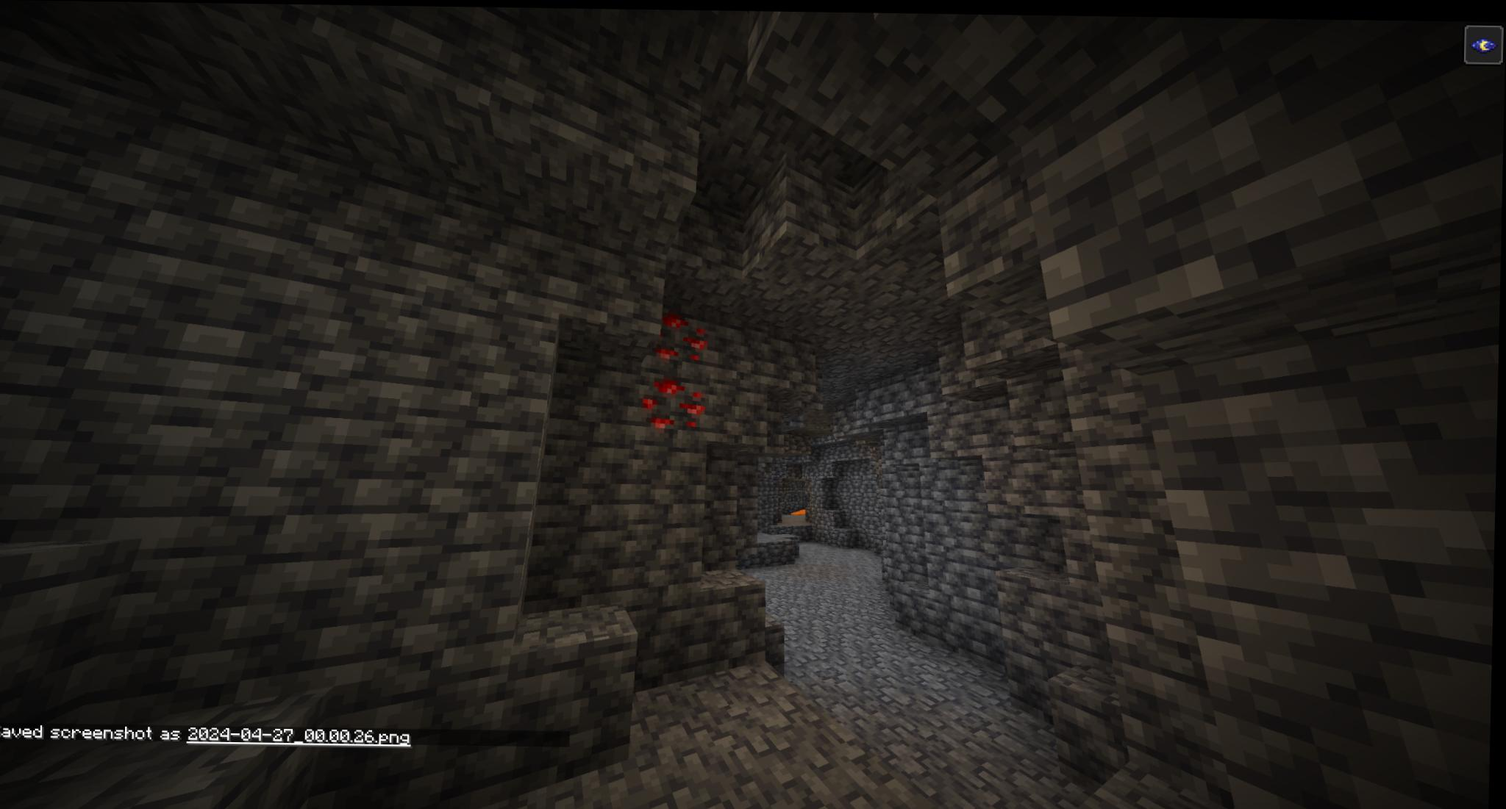redstone ore: (648, 306, 710, 372), (645, 376, 713, 436)
